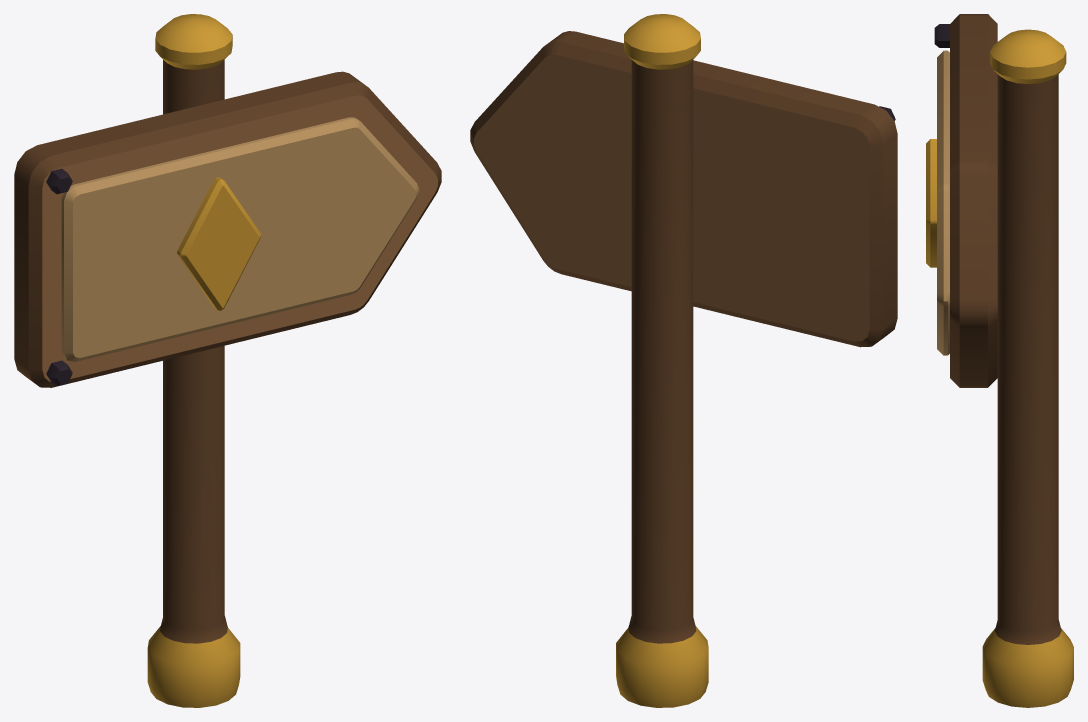
File: Sign_11.glb
The picture shows the model from 3 angles, left to right: view 1: azimuth 30°, elevation 25°; view 2: azimuth 150°, elevation 25°; view 3: azimuth 270°, elevation 25°; orthographic projection. The views are drawn at different scales.
Parts seen in each view (by area): view 1: Sign_11; view 2: Sign_11; view 3: Sign_11.
Boxes of the visible parts, x1,y1,x2,y2 form: Sign_11: (14, 14, 441, 707); Sign_11: (470, 14, 897, 707); Sign_11: (926, 14, 1073, 707).
Size of the model in its own units: 2.15 by 3.32 by 0.68.
